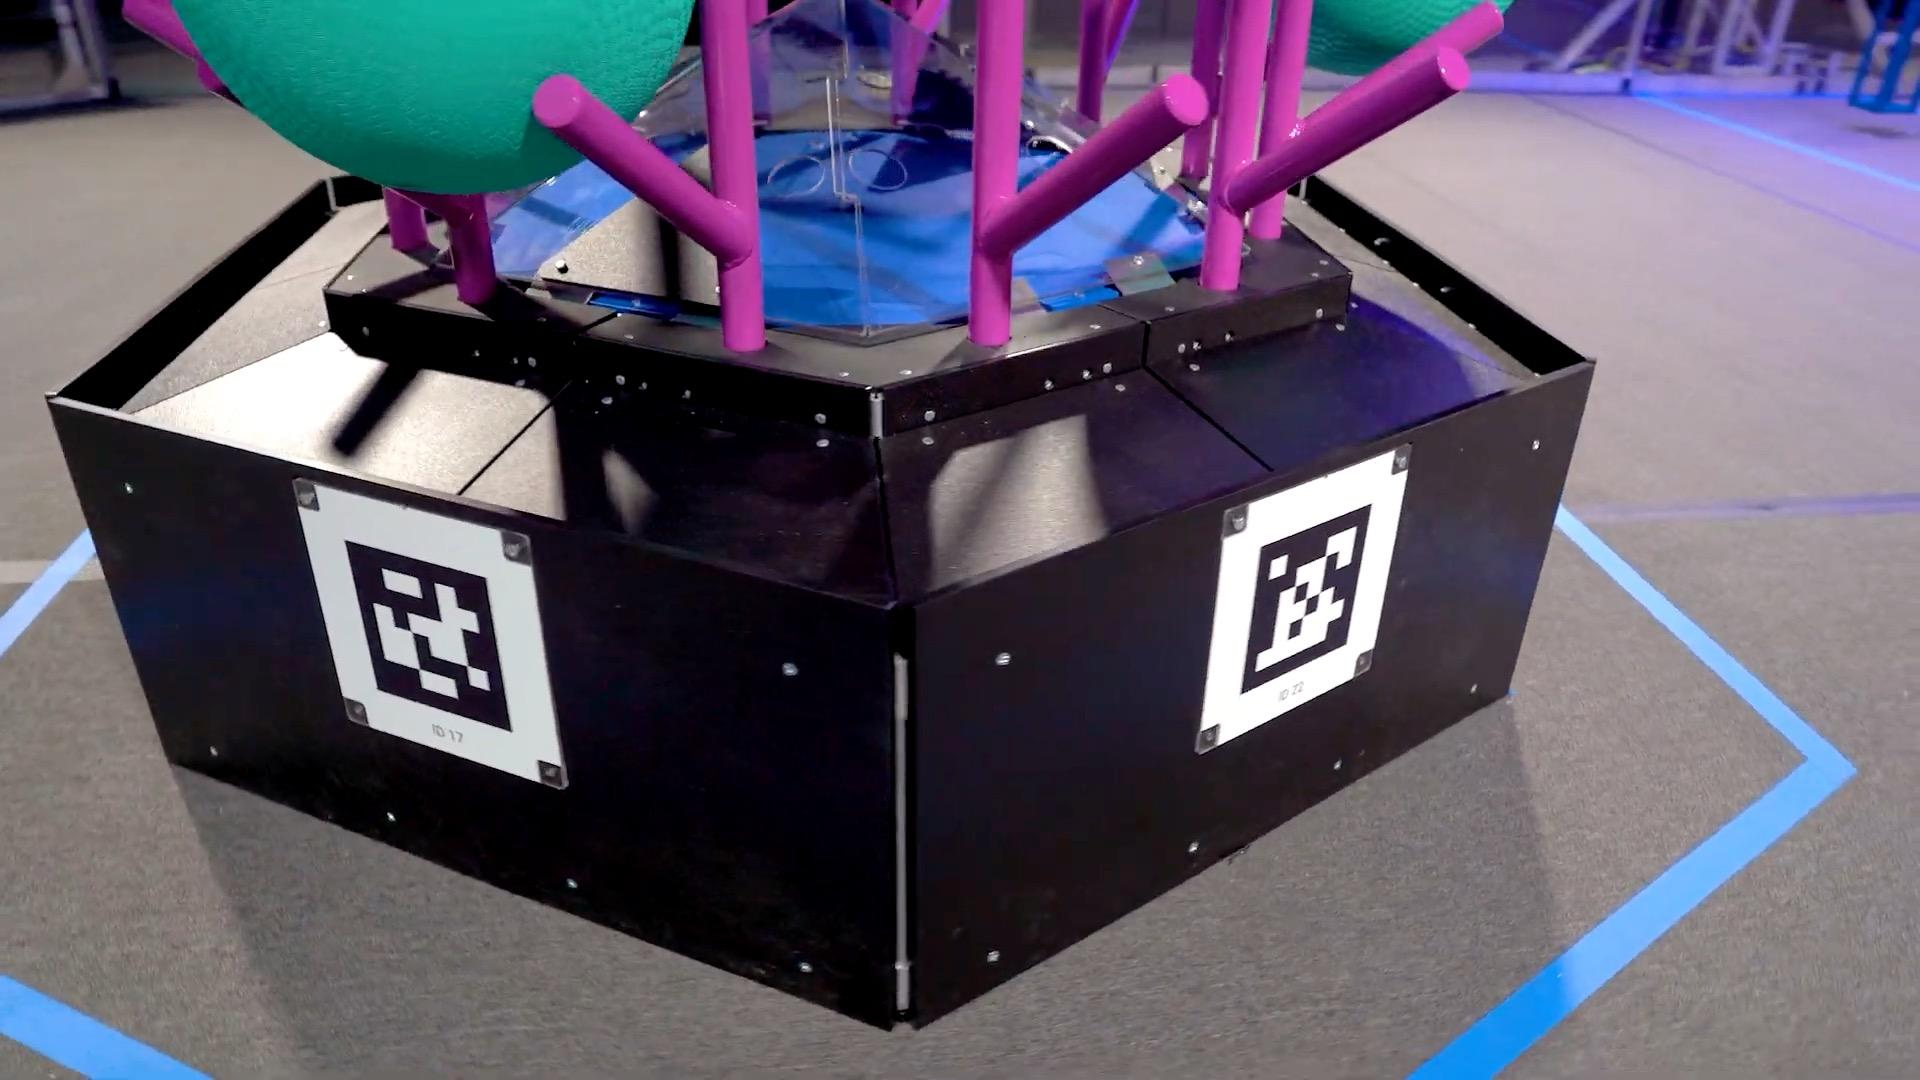ALGAE: (169, 0, 696, 196), (1302, 0, 1513, 79)
